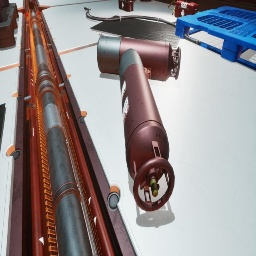FireExtinguisher ]: (28, 0, 34, 10)
FirstAidBox ,: (174, 0, 198, 18), (118, 0, 134, 12)
NitrogenTank ,: (119, 48, 175, 211), (97, 36, 181, 82)
